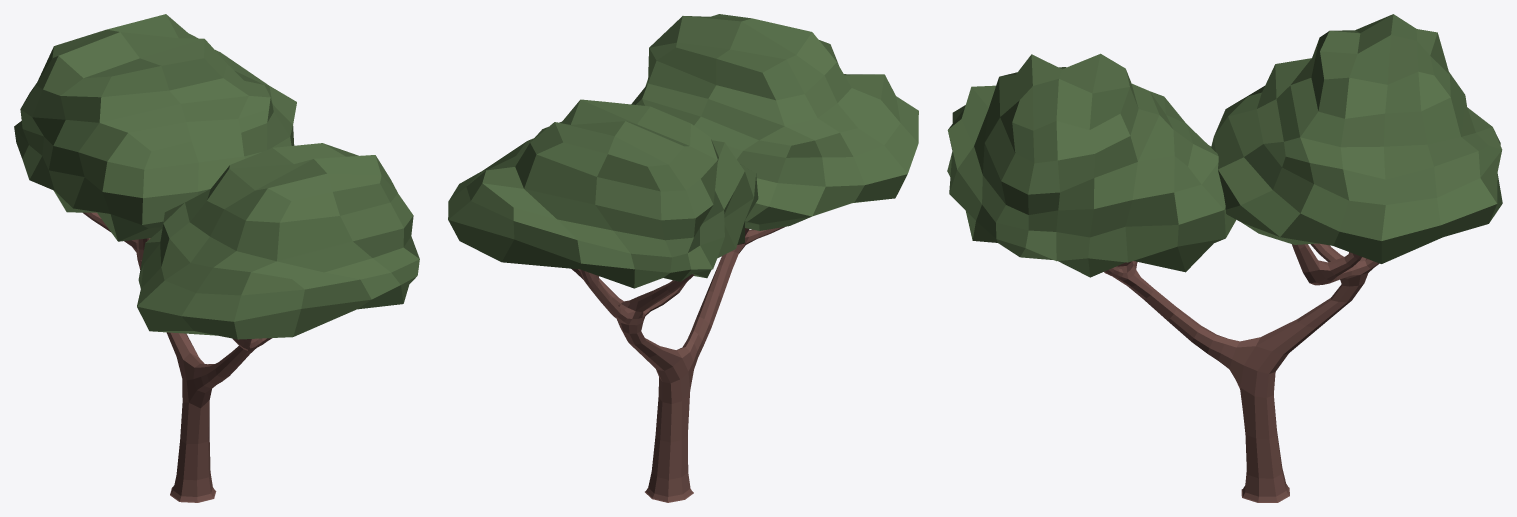
File: CommonTree_1.glb
The picture shows the model from 3 angles, left to right: view 1: azimuth 30°, elevation 25°; view 2: azimuth 150°, elevation 25°; view 3: azimuth 270°, elevation 25°; orthographic projection. The views are drawn at different scales.
Visible parts, largest first — view 1: Green, Wood; view 2: Green, Wood; view 3: Green, Wood.
Part boxes in pixels (x1=…): Green: x1=14, y1=14, x2=419, y2=339; Wood: x1=83, y1=212, x2=272, y2=502; Green: x1=448, y1=14, x2=918, y2=288; Wood: x1=571, y1=226, x2=785, y2=502; Green: x1=947, y1=14, x2=1502, y2=277; Wood: x1=1104, y1=243, x2=1379, y2=502.
Size of the model in its own units: 4.91 by 6.45 by 7.21.
